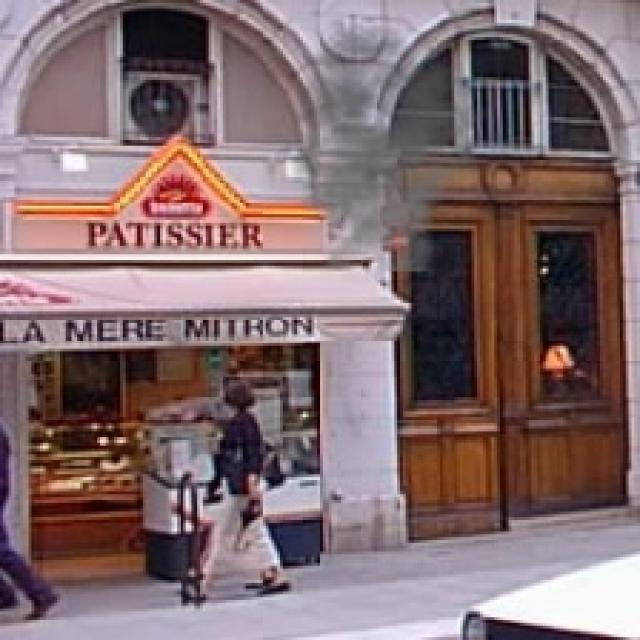Smoke: (263, 22, 492, 272)
